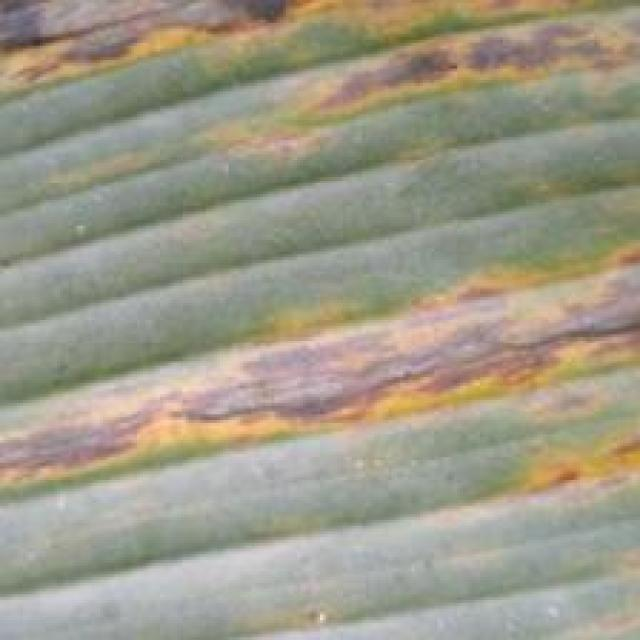Early_leaf_spot: (0, 237, 640, 546), (0, 0, 640, 163)
